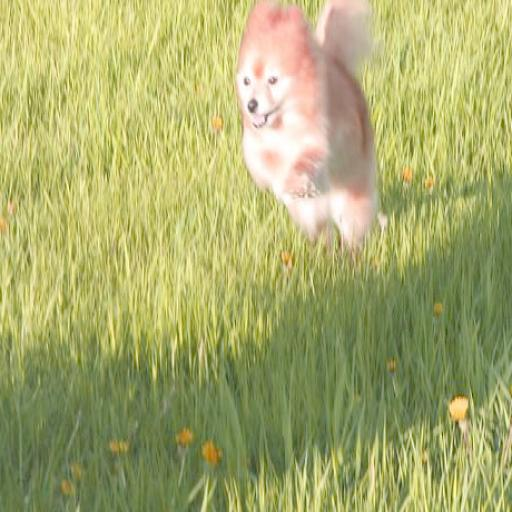dog_face: (231, 6, 297, 123)
